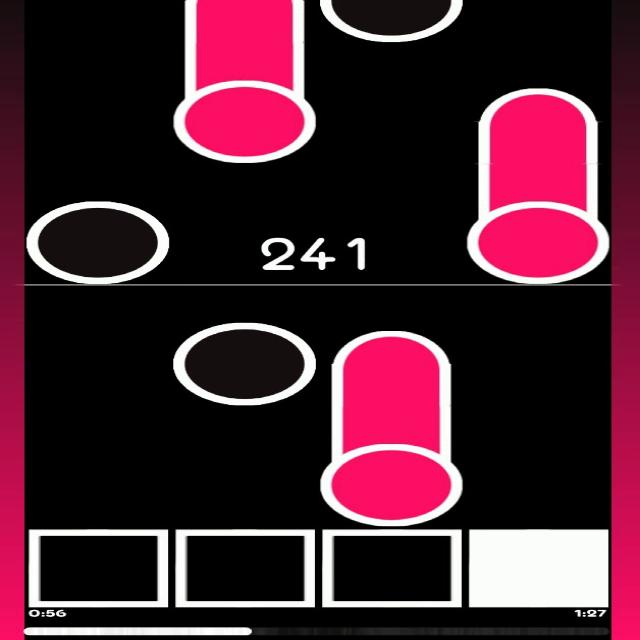end_hold: (331, 321, 454, 372), (474, 80, 606, 123)
note: (25, 197, 176, 283), (173, 320, 316, 409), (318, 1, 466, 43)
start_hold: (170, 65, 318, 166), (316, 431, 466, 528), (461, 190, 609, 284)
